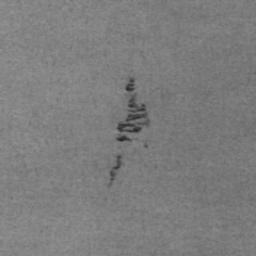Secondary rust skin: (108, 78, 150, 189)
